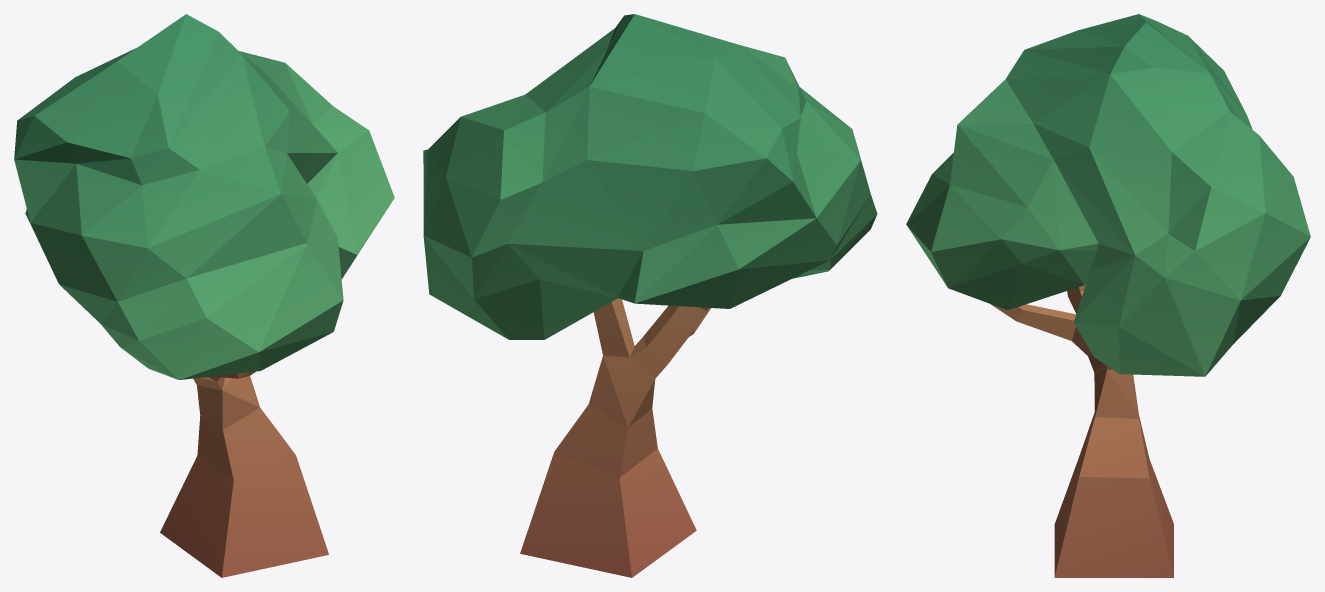
Rendered from PR_Tree_03.fbx.
3 renders of one model, left to right at view 1: azimuth 30°, elevation 25°; view 2: azimuth 150°, elevation 25°; view 3: azimuth 270°, elevation 25°, orthographic. The views are drawn at different scales.
Parts seen in each view (by area): view 1: PR_Tree_03; view 2: PR_Tree_03; view 3: PR_Tree_03.
Part boxes in pixels (x1,y1,x2,y2): PR_Tree_03: (14,14,394,577); PR_Tree_03: (423,14,877,577); PR_Tree_03: (906,14,1310,577).
Size of the model in its own units: 617 by 869 by 624.
Materials: 1 (1 with a texture image).
